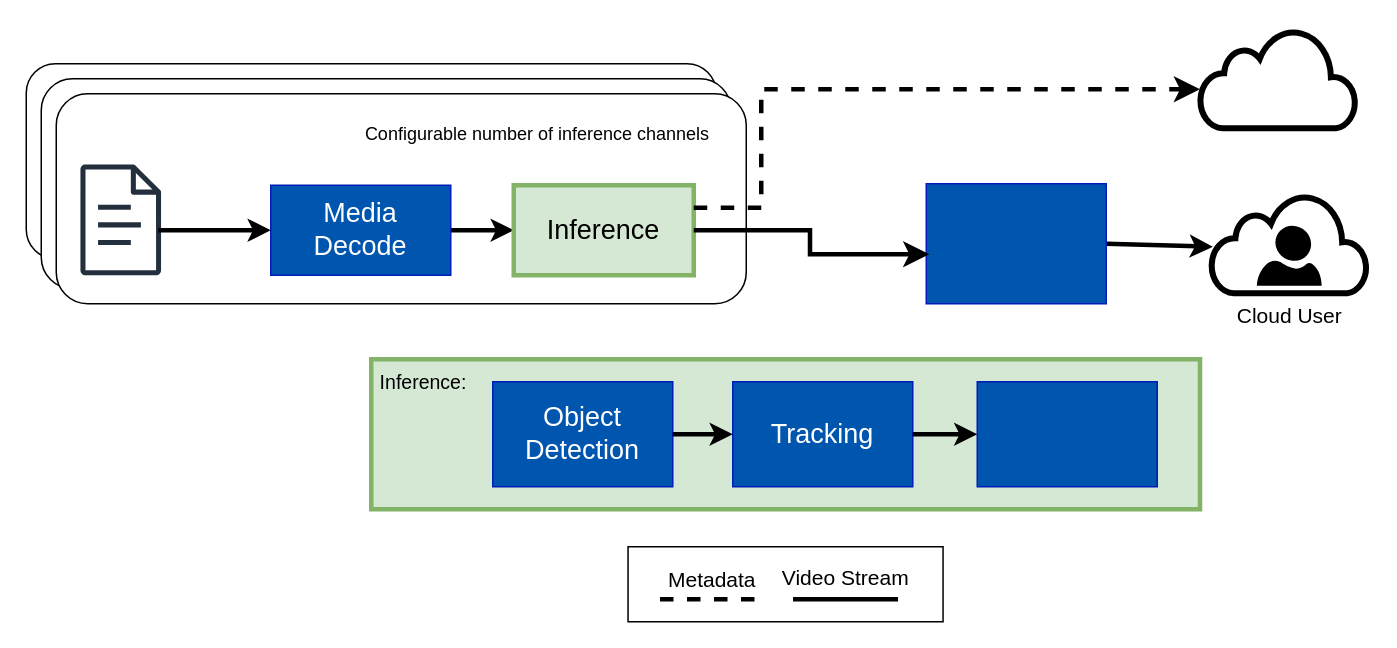
Image size: 1397x648. Some labels were removed from this diagram. Here are the shapes that lost their labels. From the top down, the centre of each, then its label:
At point (1277, 78): "MQTT".
At point (1015, 243): "H.264 Encode".
At point (1066, 433): "Object Classification".
